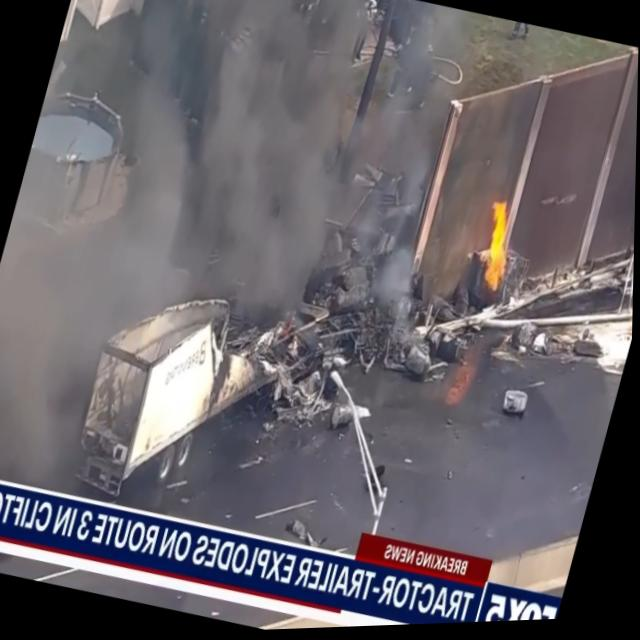Fire: (464, 192, 532, 305)
